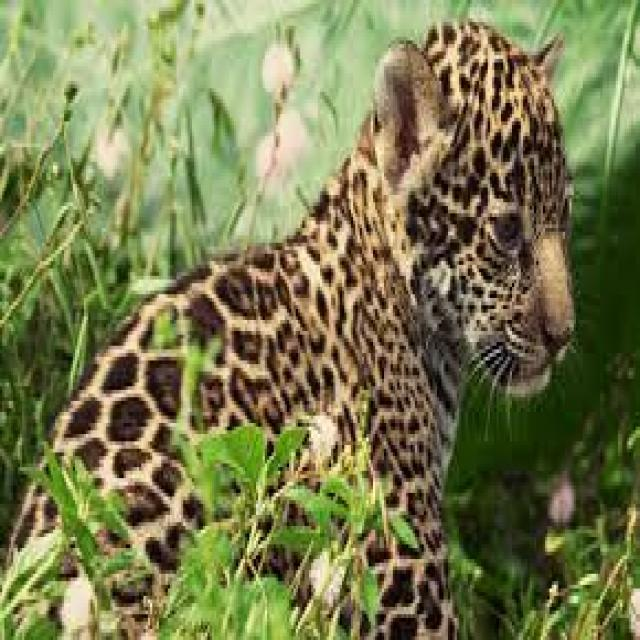Jaguar: (48, 14, 582, 640)
